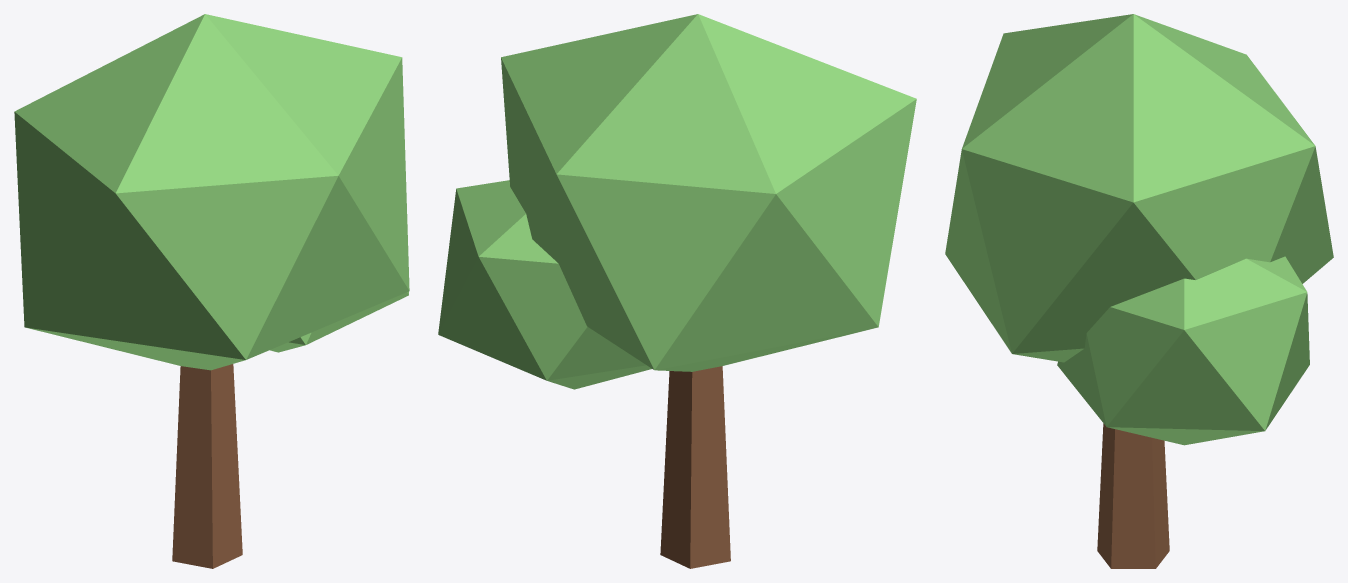
The model's file is tree_round.glb.
The picture shows the model from 3 angles, left to right: view 1: azimuth 30°, elevation 25°; view 2: azimuth 150°, elevation 25°; view 3: azimuth 270°, elevation 25°; orthographic projection.
Parts seen in each view (by area): view 1: Crown, Trunk, Crown2; view 2: Crown, Crown2, Trunk; view 3: Crown, Crown2, Trunk.
Boxes of the visible parts, x1,y1,x2,y2 form: Crown: [14, 14, 409, 370]; Trunk: [172, 364, 242, 568]; Crown2: [270, 291, 408, 352]; Crown: [501, 14, 916, 371]; Crown2: [438, 180, 651, 389]; Trunk: [660, 366, 730, 568]; Crown: [945, 14, 1333, 362]; Crown2: [1057, 256, 1309, 445]; Trunk: [1097, 423, 1169, 568].
Bounding box in the file's own units: 0.7257 × 0.9417 × 0.6121.
